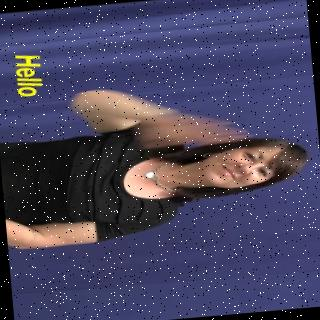Hello: (0, 73, 316, 254)
